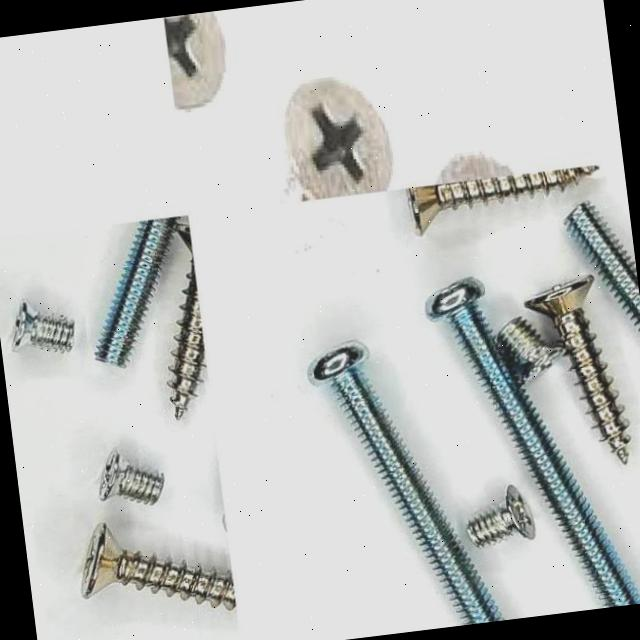Screw: (425, 277, 640, 607), (308, 342, 504, 624), (525, 274, 631, 464), (268, 68, 400, 205), (407, 165, 599, 235), (81, 523, 236, 609), (96, 216, 179, 367), (567, 202, 640, 330), (163, 10, 231, 125), (169, 254, 205, 419), (497, 316, 565, 384), (467, 485, 535, 547), (99, 451, 163, 503), (12, 300, 74, 351)
